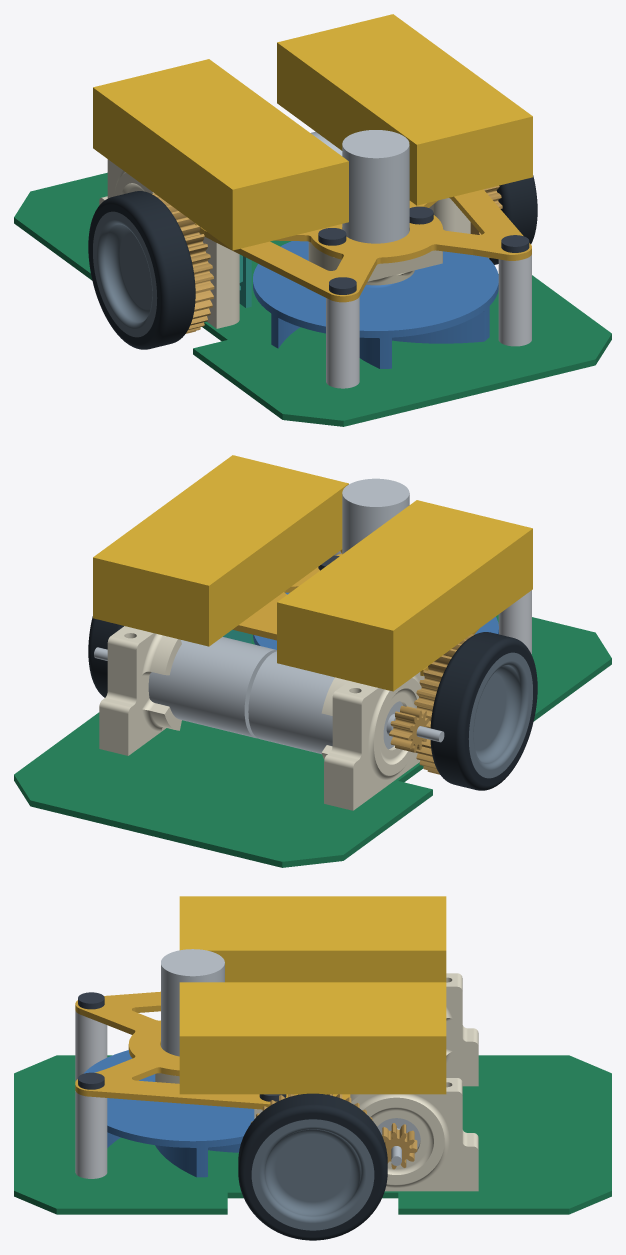
The model's file is assembly-a07.glb.
The picture shows the model from 3 angles, top to bottom: view 1: azimuth 30°, elevation 25°; view 2: azimuth 150°, elevation 25°; view 3: azimuth 270°, elevation 25°; orthographic projection. The views are drawn at different scales.
Visible parts, largest first — view 1: 063_pcb, 064_battery, 065_battery, 062_fan, upper_plate, 003_tire, 060_fan_motor, 002_wheel, 027_mount, front_post_0, front_post_1, 004_gear (+3 smaller); view 2: 063_pcb, 064_battery, 065_battery, 027_mount, 030_motor, 003_tire, 059_mount, 000_motor, 002_wheel, 060_fan_motor, 004_gear, upper_plate (+3 smaller); view 3: 063_pcb, 065_battery, 064_battery, 032_wheel, 059_mount, 062_fan, upper_plate, 033_tire, 060_fan_motor, 027_mount, front_post_1, front_post_0 (+2 smaller).
Boxes of the visible parts, x1,y1,x2,y2 form: 063_pcb: (14,172,611,426); 064_battery: (93,59,348,250); 065_battery: (277,14,532,205); 062_fan: (253,241,498,368); upper_plate: (195,189,531,302); 003_tire: (88,191,195,349); 060_fan_motor: (342,130,409,243); 002_wheel: (93,211,157,337); 027_mount: (99,159,239,328); front_post_0: (326,297,359,388); front_post_1: (498,254,531,346); 004_gear: (152,193,214,333); 063_pcb: (14,614,611,867); 064_battery: (277,500,532,691); 065_battery: (93,455,348,646); 027_mount: (321,672,424,810); 030_motor: (94,637,276,738); 003_tire: (430,632,537,790); 059_mount: (99,626,181,755); 000_motor: (248,651,444,754); 002_wheel: (468,652,532,778); 060_fan_motor: (342,478,409,554); 004_gear: (414,634,474,774); upper_plate: (233,549,479,675); 063_pcb: (14,1055,611,1214); 065_battery: (179,982,446,1094); 064_battery: (179,896,446,982); 032_wheel: (251,1119,374,1230); 059_mount: (254,1078,478,1191); 062_fan: (84,1050,254,1177); upper_plate: (75,991,350,1109); 033_tire: (238,1093,387,1240); 060_fan_motor: (161,949,224,1056); 027_mount: (446,973,478,1086); front_post_1: (75,1091,107,1178); front_post_0: (75,1010,107,1081).
Bounding box in the file's own units: 38.8 × 19.88 × 56.
